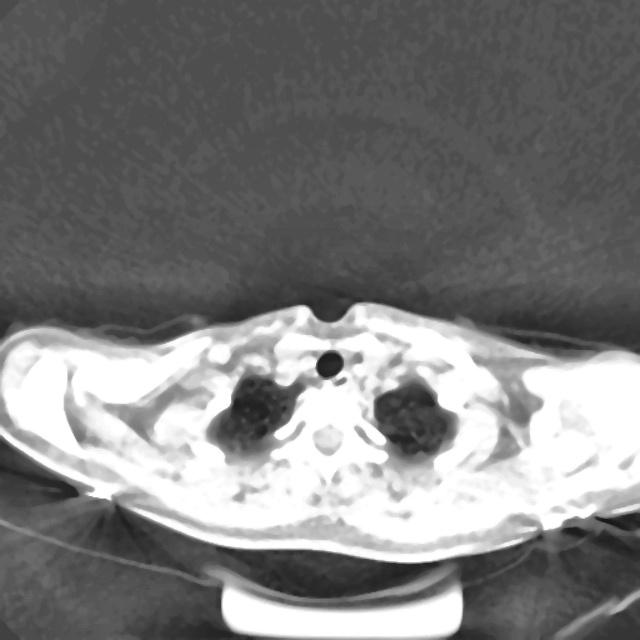covid: (0, 299, 639, 564)
